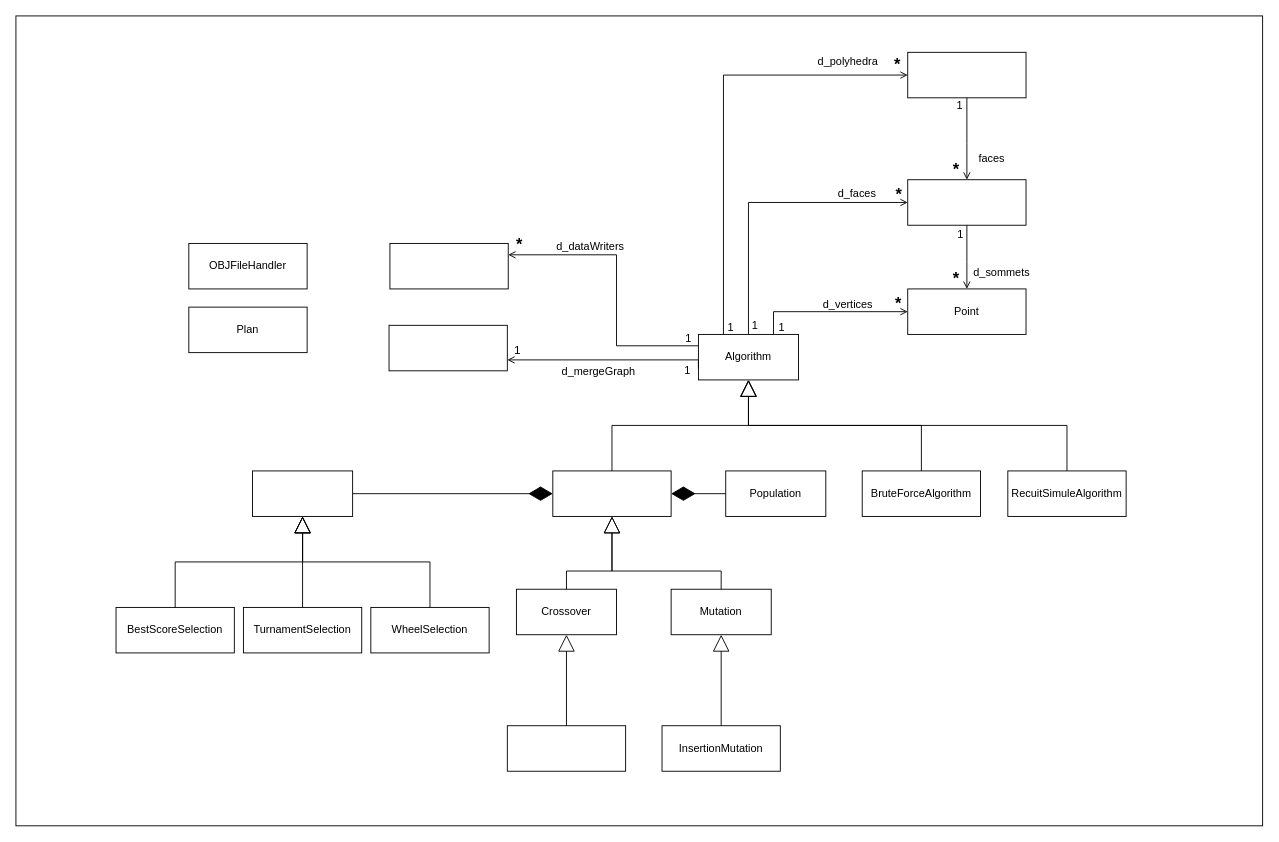
Some shapes in this 1279 by 842 pixel diagram are drawn without their labels. The box of each missing label's shape, as (x1, y1, x2, y2) in pixels:
ExportAlgoData: (389, 243, 508, 289)
Face: (907, 179, 1026, 225)
GeneticAlgorithm: (552, 470, 671, 516)
Graph: (388, 324, 507, 371)
NXCrossover: (506, 725, 626, 771)
Polyedre: (907, 51, 1026, 98)
Selection: (252, 470, 353, 516)
